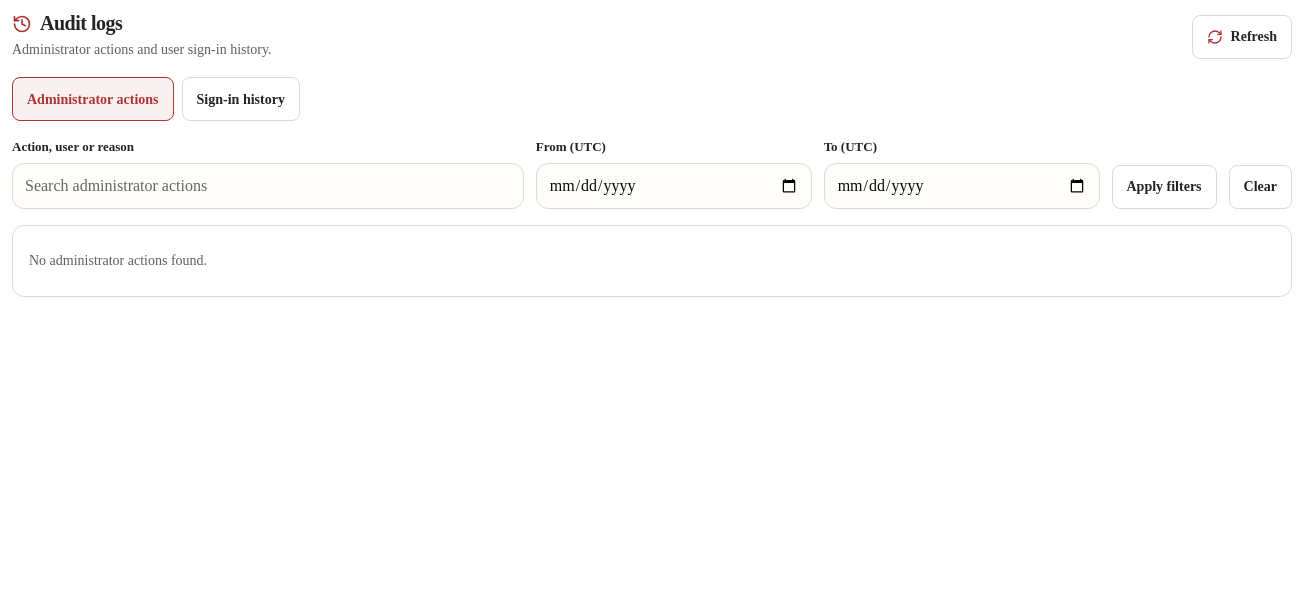
admin sign-in history › rejects inverted dates without making another history request
Expected: the text "No administrator actions found." is shown, [29, 253, 207, 268]
Click the button "Sign-in history". click: [241, 99]
box: [182, 77, 300, 121]
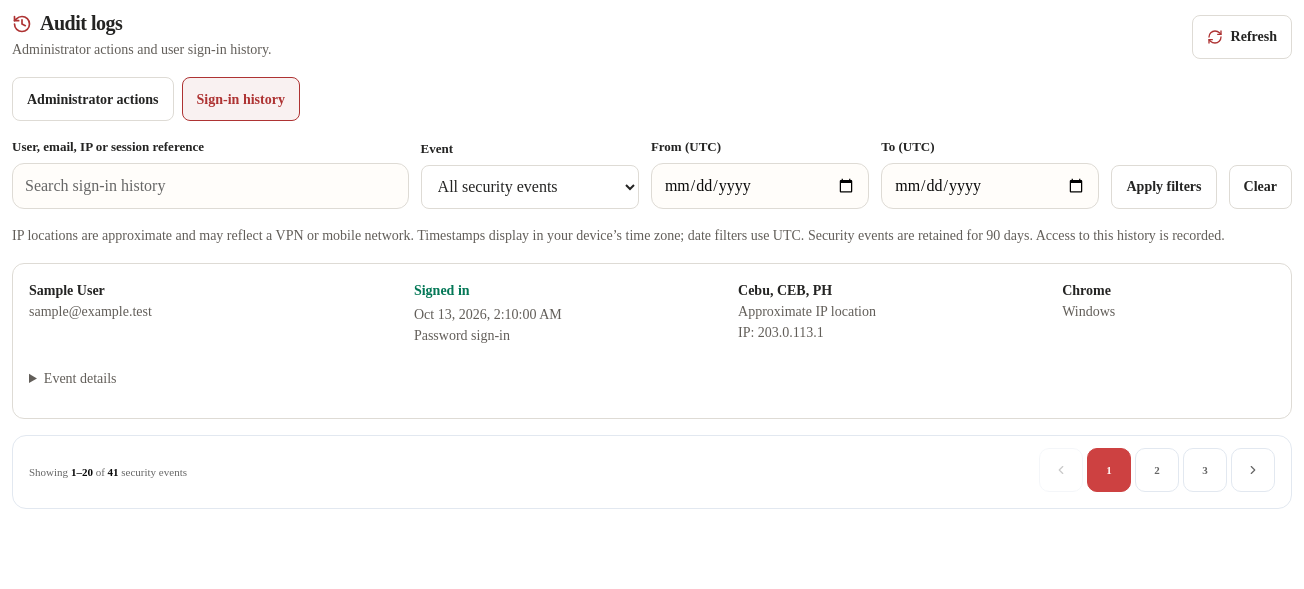
Result: the text "Sample User" is shown at [29, 283, 105, 298]
Type "2026-10-13" into the date field labelled "From (UTC)". click: [760, 186]
box: [651, 163, 869, 209]
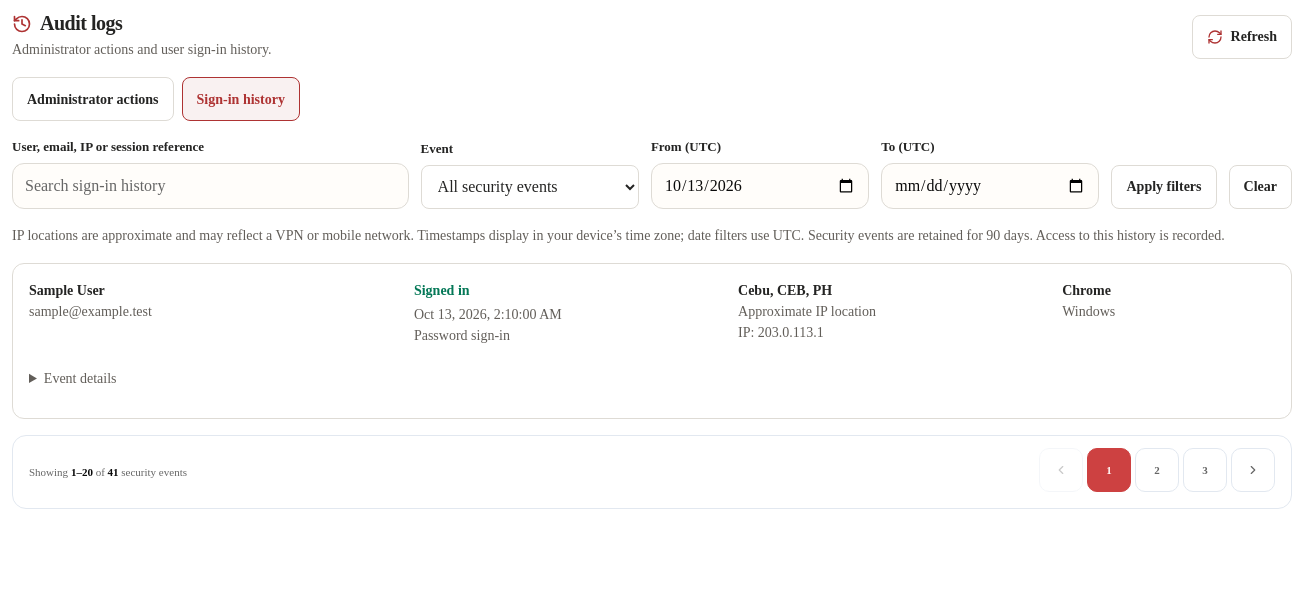
Type "2026-10-12" into the date field labelled "To (UTC)". click: [990, 186]
box: [881, 163, 1100, 209]
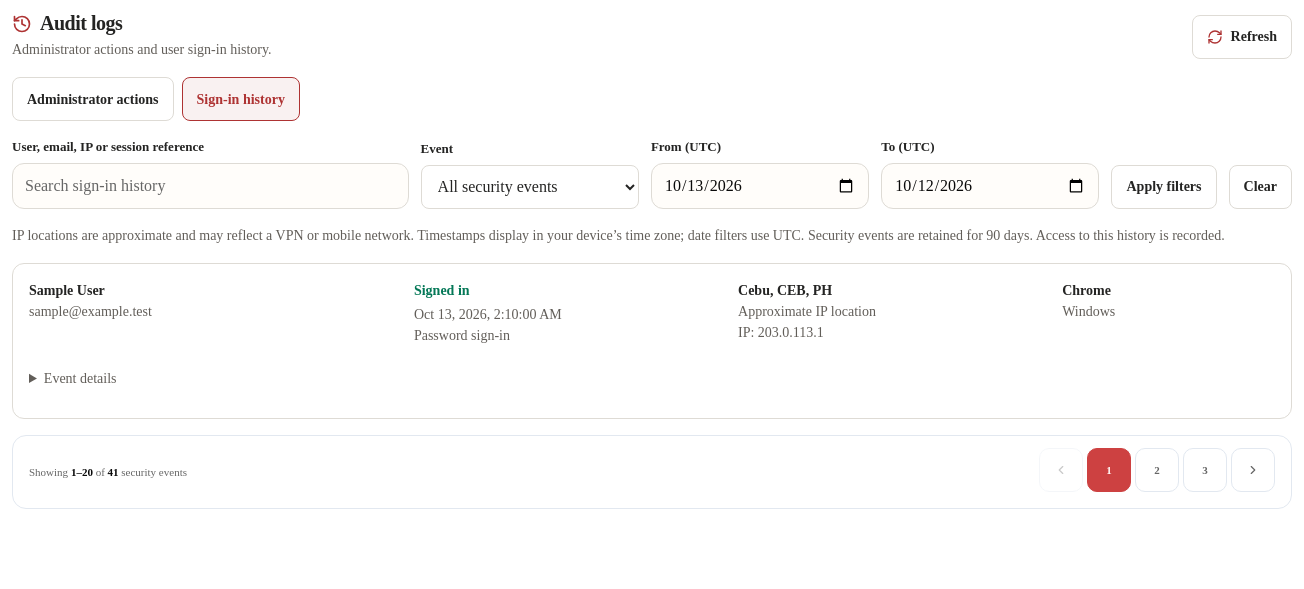
Click the button "Apply filters". click: [1164, 187]
box: [1112, 165, 1217, 209]
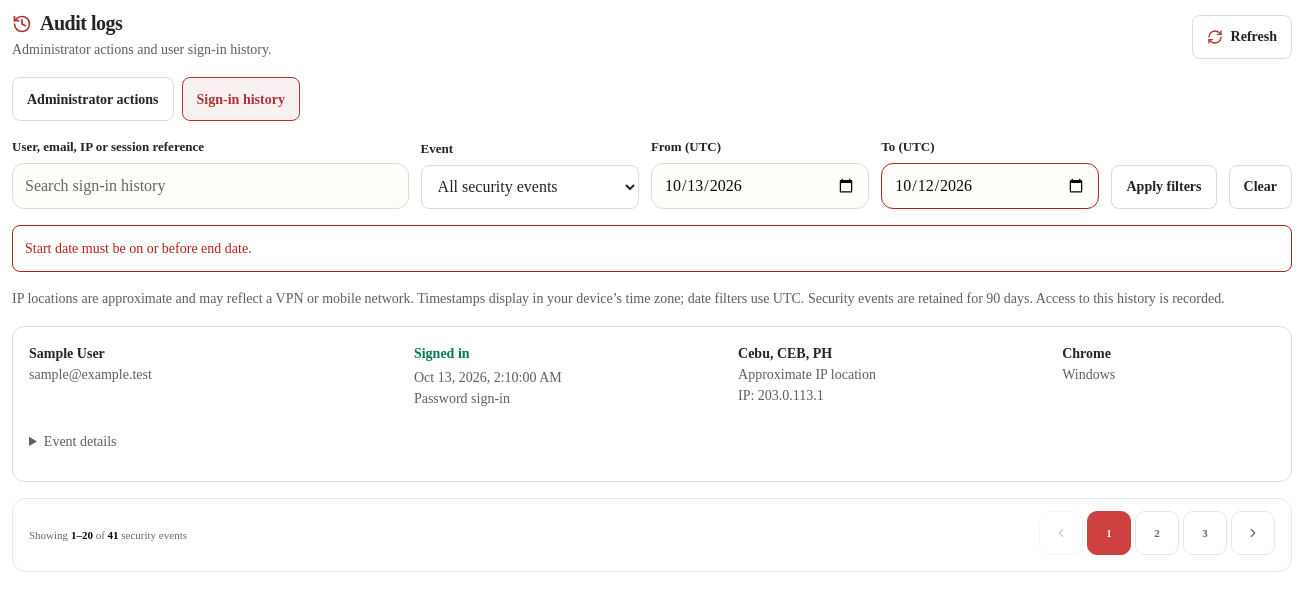
Result: the message reads "Start date must be on or before end date." at [25, 241, 252, 256]
